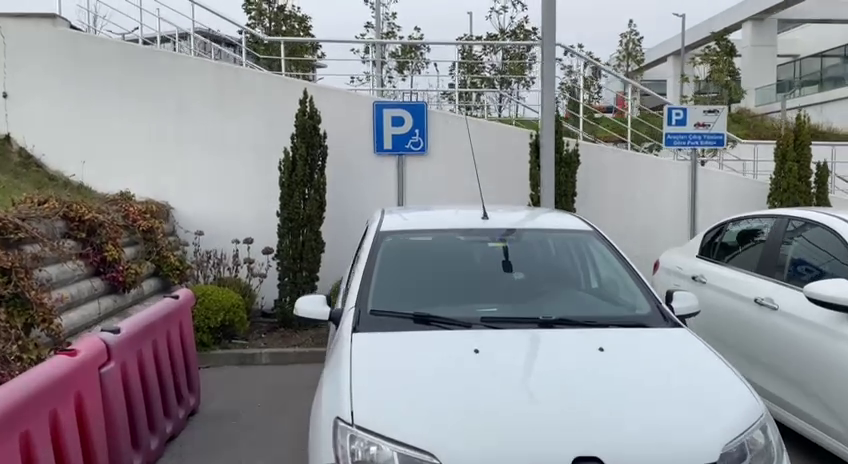parking: (372, 100, 430, 156), (665, 106, 688, 128)
